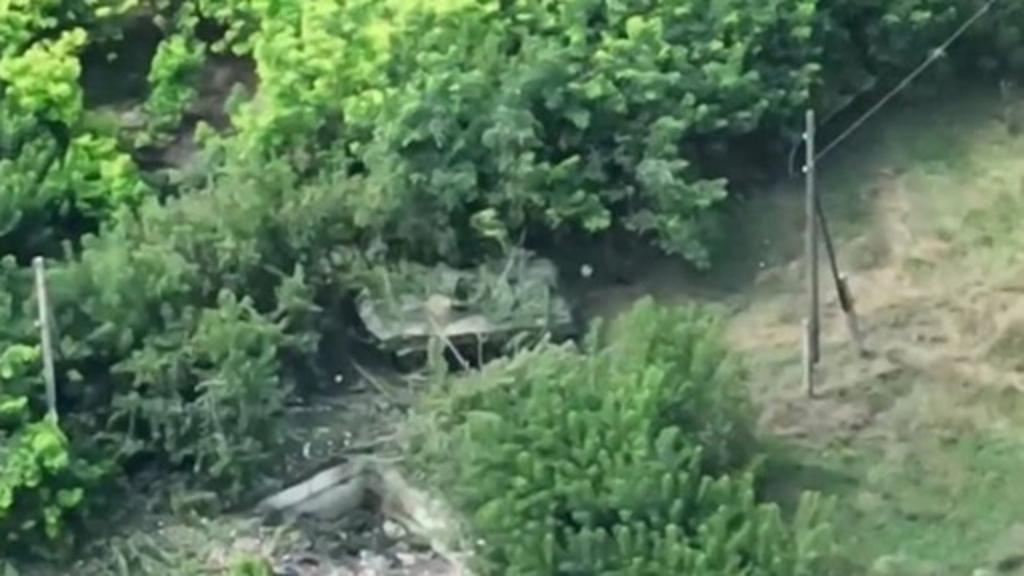APC-IFV: (350, 260, 584, 364)
